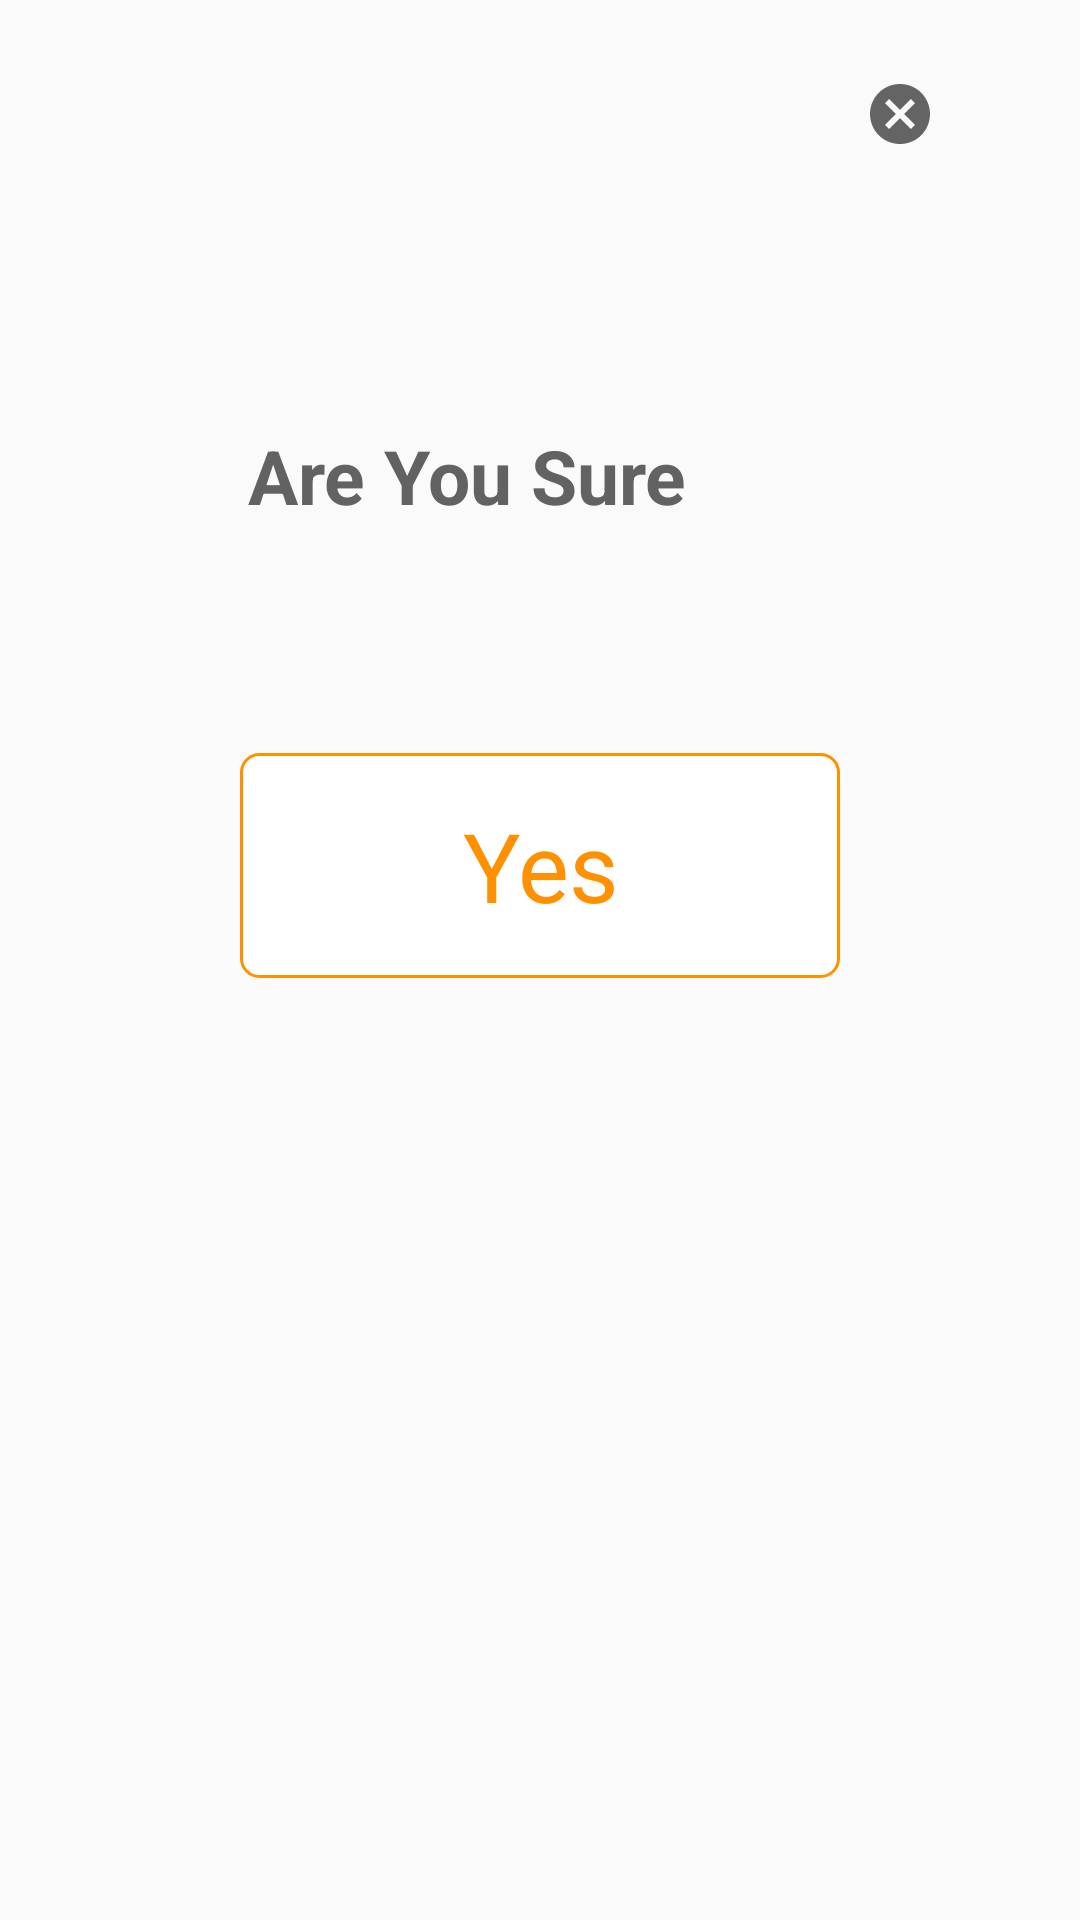

Icon click points for this 1080w x 1920h phone screenshot, format point (x, y):
cancel: point (900, 114)
